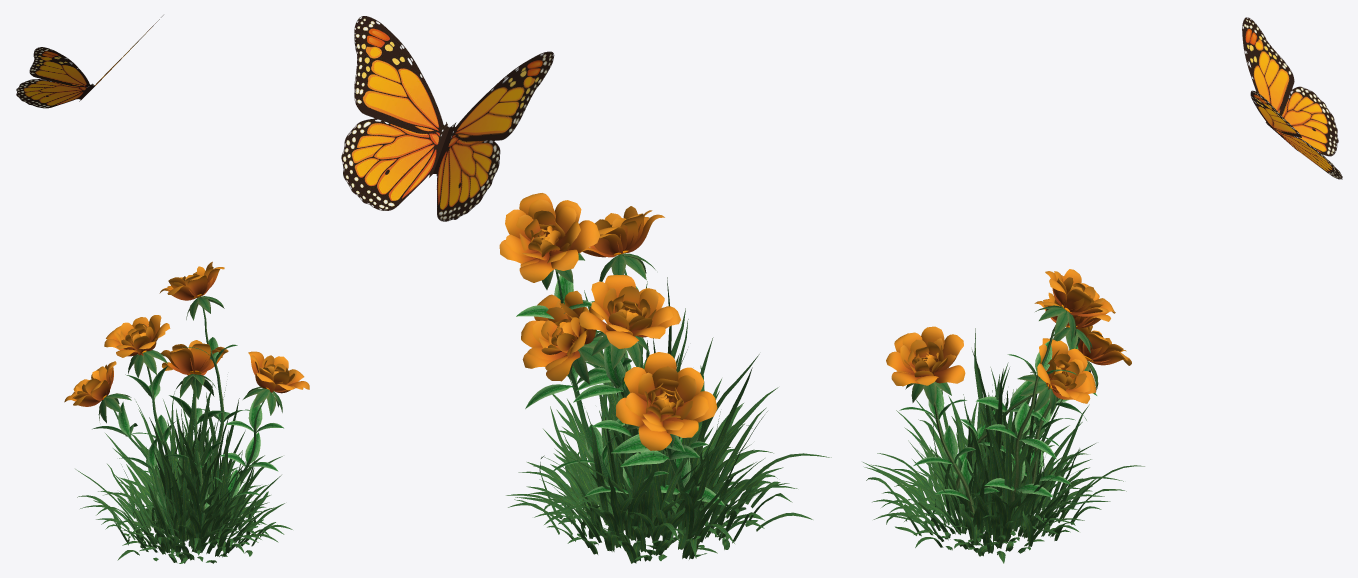
File: Tahap5.fbx
3 renders of one model, left to right at view 1: azimuth 30°, elevation 25°; view 2: azimuth 150°, elevation 25°; view 3: azimuth 270°, elevation 25°, orthographic. The views are drawn at different scales.
Visible parts, largest first — view 1: Roses_Orange_Mf_Grass_0, Roses_Orange_Mf_Petal_0, Roses_Orange_Mf_Stem_0, Roses_Orange_Mf_Leaf_0, polySurface2_lambert6_0.001; view 2: Roses_Orange_Mf_Grass_0, Roses_Orange_Mf_Petal_0, polySurface2_lambert6_0.001, Roses_Orange_Mf_Leaf_0, Roses_Orange_Mf_Stem_0; view 3: Roses_Orange_Mf_Grass_0, Roses_Orange_Mf_Petal_0, polySurface2_lambert6_0.001, Roses_Orange_Mf_Leaf_0, Roses_Orange_Mf_Stem_0.
Boxes of the visible parts, x1,y1,x2,y2 form: Roses_Orange_Mf_Grass_0: (75,375,292,563); Roses_Orange_Mf_Petal_0: (64,261,309,406); Roses_Orange_Mf_Stem_0: (98,296,282,552); Roses_Orange_Mf_Leaf_0: (92,337,283,512); polySurface2_lambert6_0.001: (16,15,163,108); Roses_Orange_Mf_Grass_0: (506,277,831,563); Roses_Orange_Mf_Petal_0: (499,193,717,450); polySurface2_lambert6_0.001: (341,16,554,221); Roses_Orange_Mf_Leaf_0: (516,275,724,505); Roses_Orange_Mf_Stem_0: (541,253,684,528); Roses_Orange_Mf_Grass_0: (863,328,1144,563); Roses_Orange_Mf_Petal_0: (886,269,1131,403); polySurface2_lambert6_0.001: (1242,17,1342,179); Roses_Orange_Mf_Leaf_0: (899,341,1097,500); Roses_Orange_Mf_Stem_0: (905,305,1098,517).
Bounding box in the file's own units: 6.83 × 14.4 × 12.95.
Materials: 6 (6 with a texture image).
